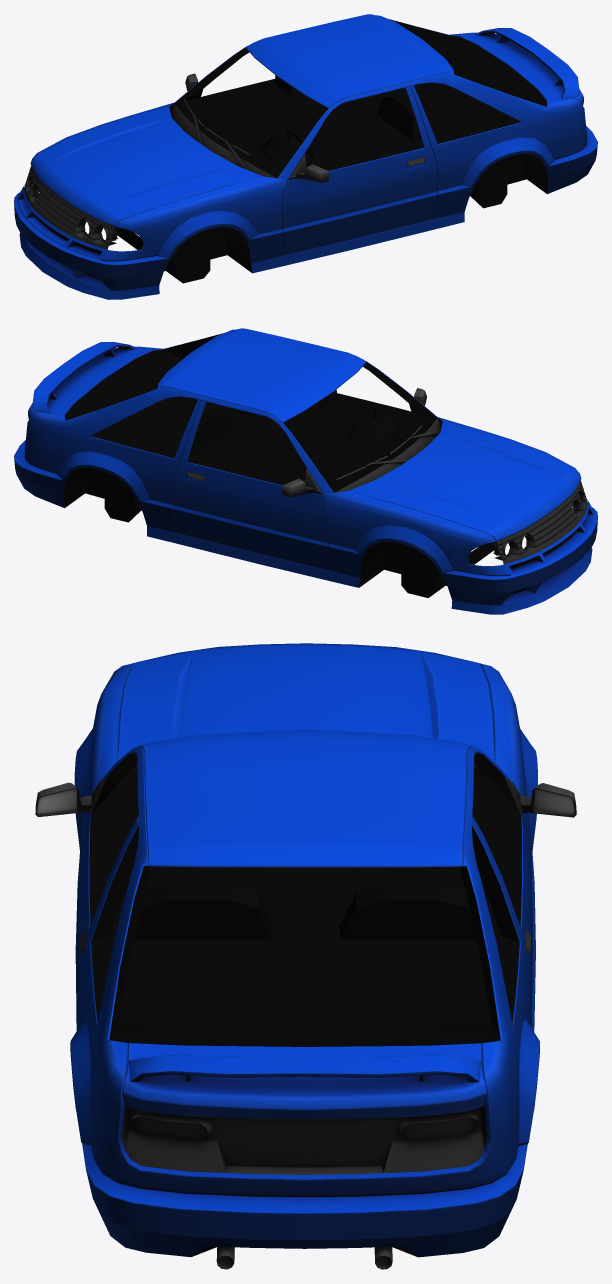
The model's file is car3.glb.
3 renders of one model, top to bottom at view 1: azimuth 30°, elevation 25°; view 2: azimuth 150°, elevation 25°; view 3: azimuth 270°, elevation 25°, orthographic. The views are drawn at different scales.
Visible parts, largest first — view 1: Coupe Body_Body_0; view 2: Coupe Body_Body_0; view 3: Coupe Body_Body_0.
Boxes of the visible parts, x1,y1,x2,y2 form: Coupe Body_Body_0: (14, 14, 597, 299); Coupe Body_Body_0: (14, 328, 597, 614); Coupe Body_Body_0: (35, 643, 576, 1269).
Bounding box in the file's own units: 4.24 × 1.16 × 1.88.
1 material, 1 textured.
